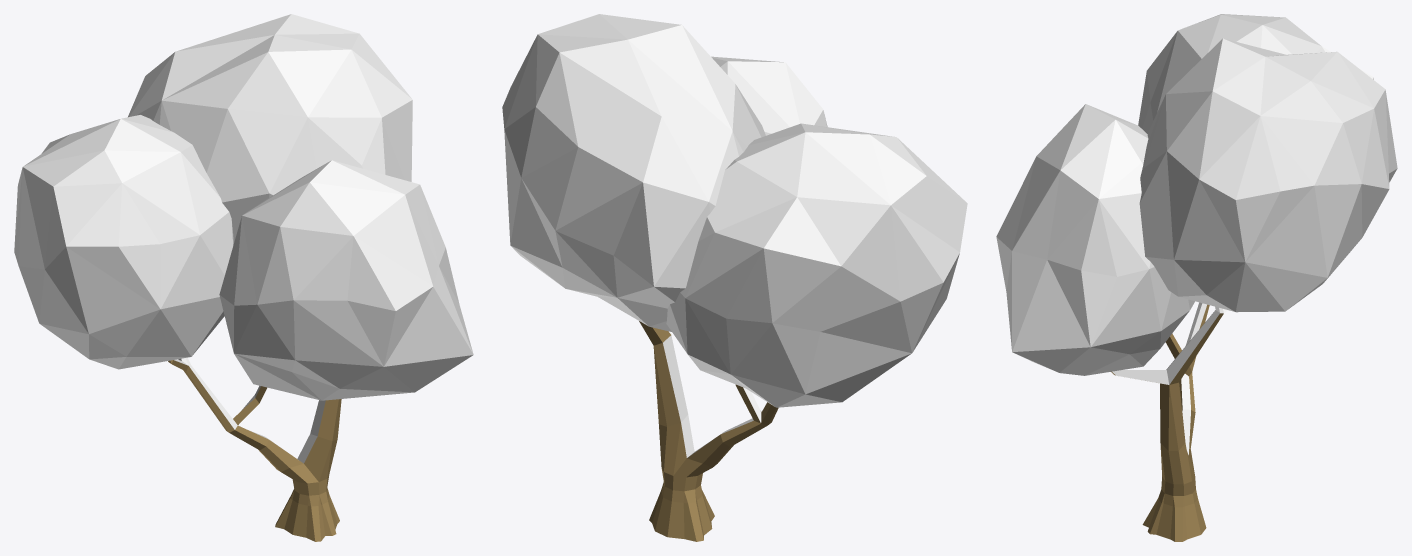
Rendered from Oak_Tree_l_Snow_03.fbx.
3 views of the same model, side by side, from view 1: azimuth 30°, elevation 25°; view 2: azimuth 150°, elevation 25°; view 3: azimuth 270°, elevation 25° (orthographic). The views are drawn at different scales.
Visible parts, largest first — view 1: Oak_Tree_l_Snow_03; view 2: Oak_Tree_l_Snow_03; view 3: Oak_Tree_l_Snow_03.
Boxes of the visible parts, <box> form: Oak_Tree_l_Snow_03: <box>14,14,473,541</box>; Oak_Tree_l_Snow_03: <box>502,14,967,541</box>; Oak_Tree_l_Snow_03: <box>996,14,1397,541</box>.
Bounding box in the file's own units: 1097 × 1262 × 957.
